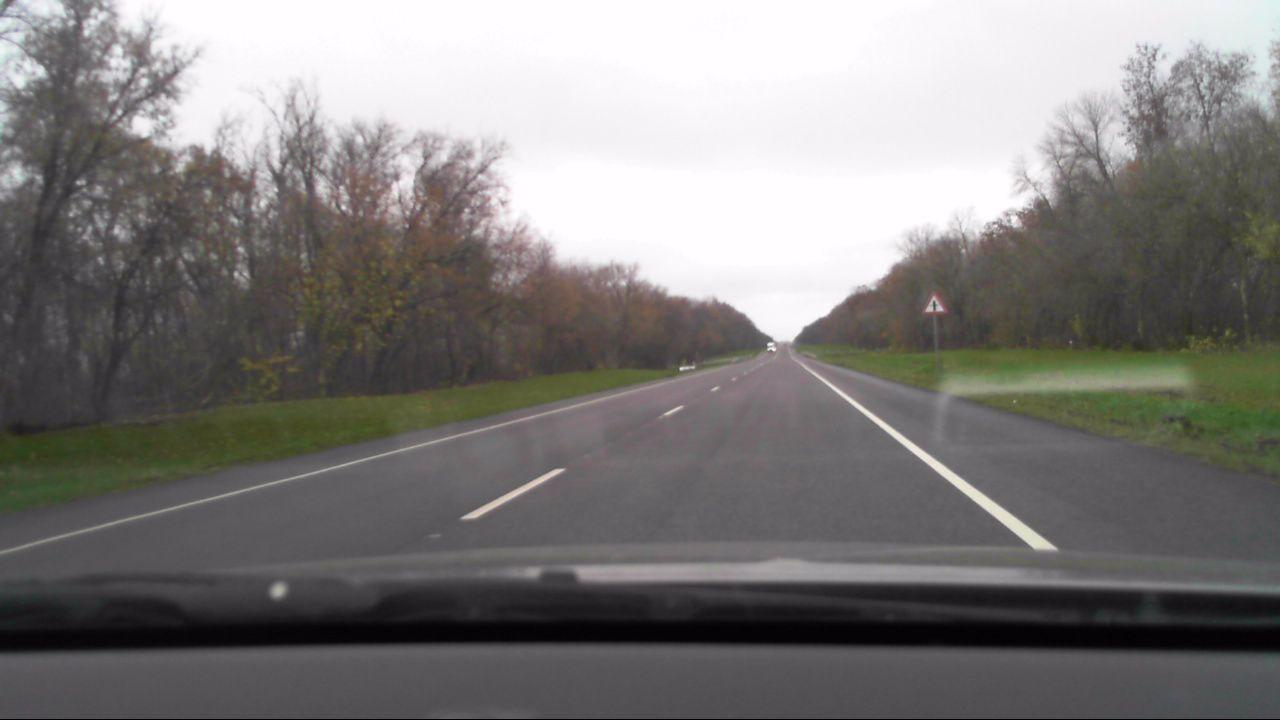2_3_1: (924, 291, 949, 316)
